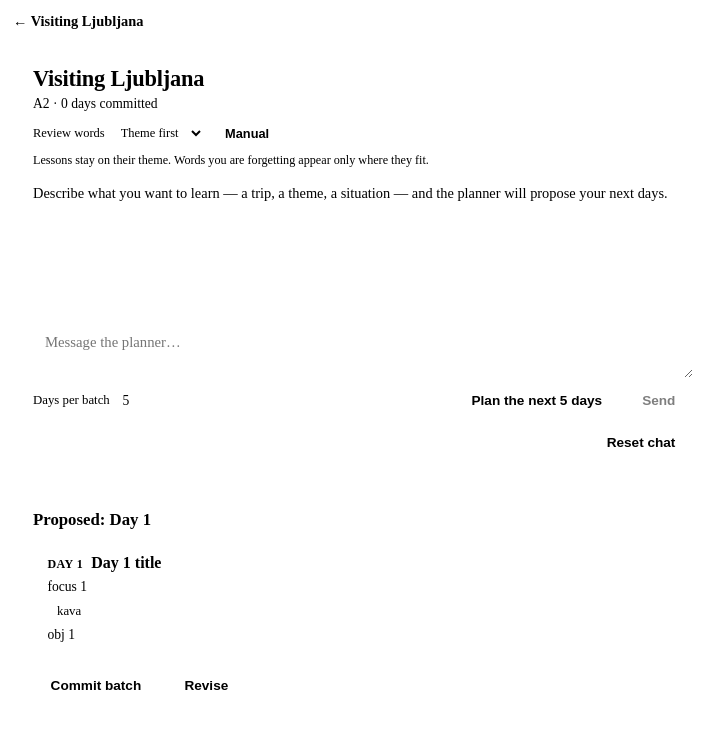
Scenario: /c/[curriculumId]/plan page › a non-Error commit rejection shows as text
Click the button "Commit batch". click: click(96, 685)
box: left=33, top=670, right=159, bottom=701
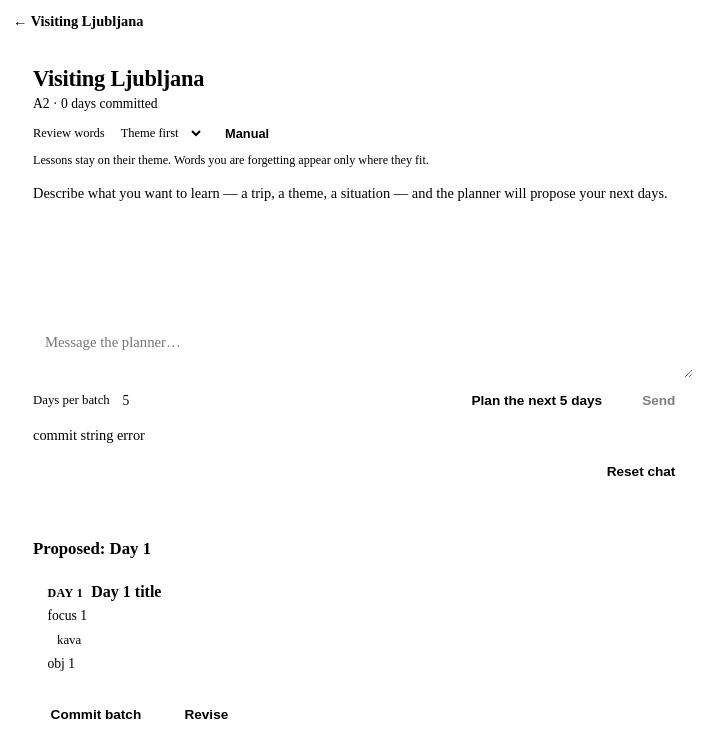
Expected: the heading "Proposed: Day 1" is shown, left=33, top=539, right=151, bottom=558
Expected: the text "commit string error" is shown, left=33, top=427, right=145, bottom=443
